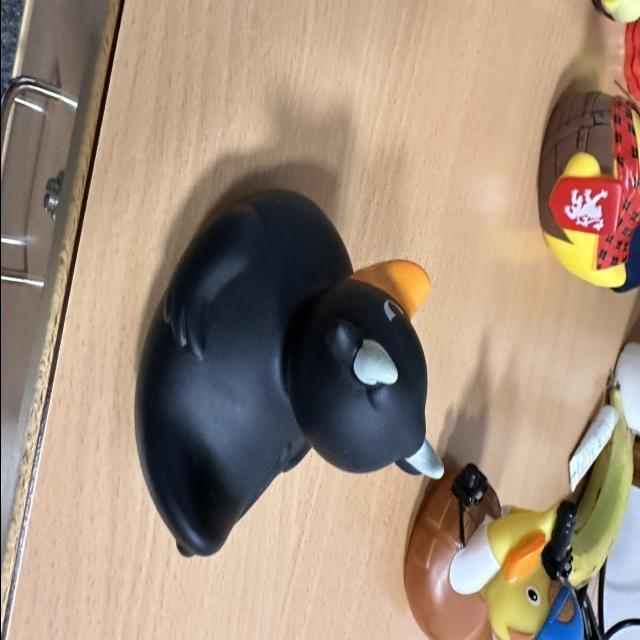rubber-duck: (135, 189, 441, 554), (403, 467, 491, 638)
